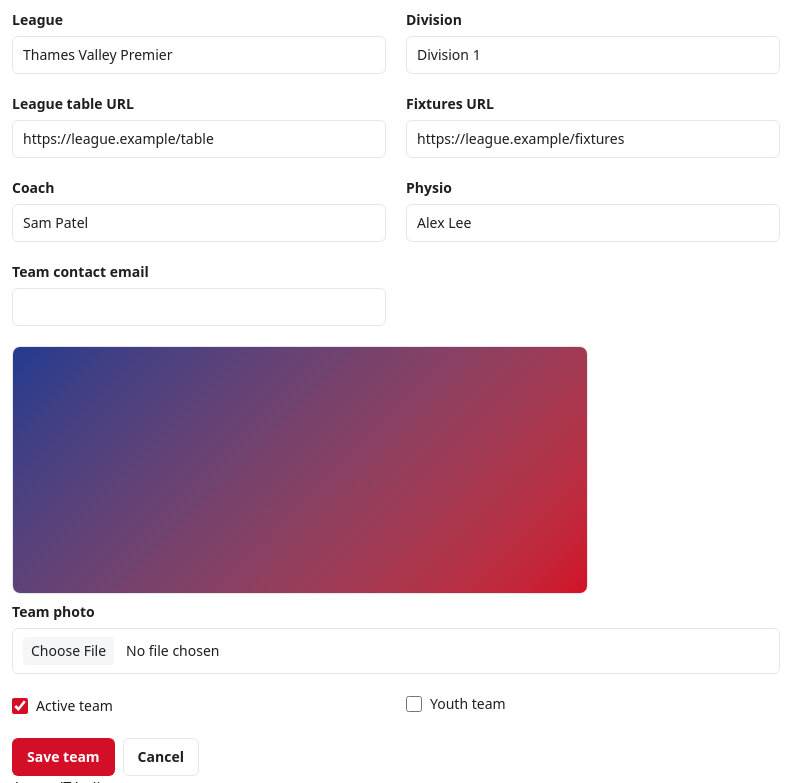
Test: Team editing › explains when a youth team with children can't become senior
The image size is (797, 783).
(page scrolled)
Click the button "Save team". click: (63, 757)
box: [12,738,115,776]
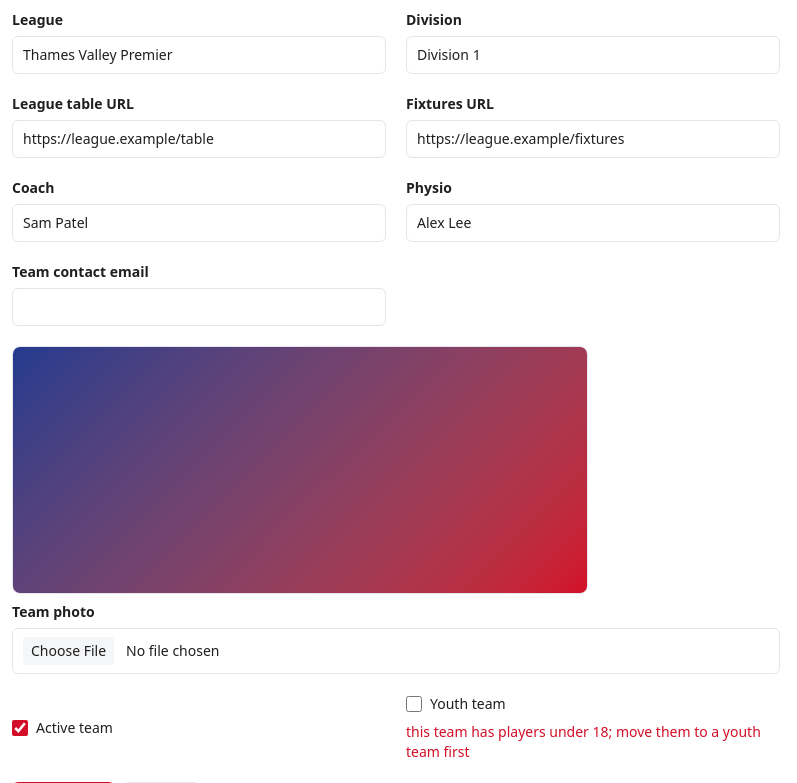
Result: the text "this team has players under 18; move them to a youth team first" is shown at [406,722,780,762]
